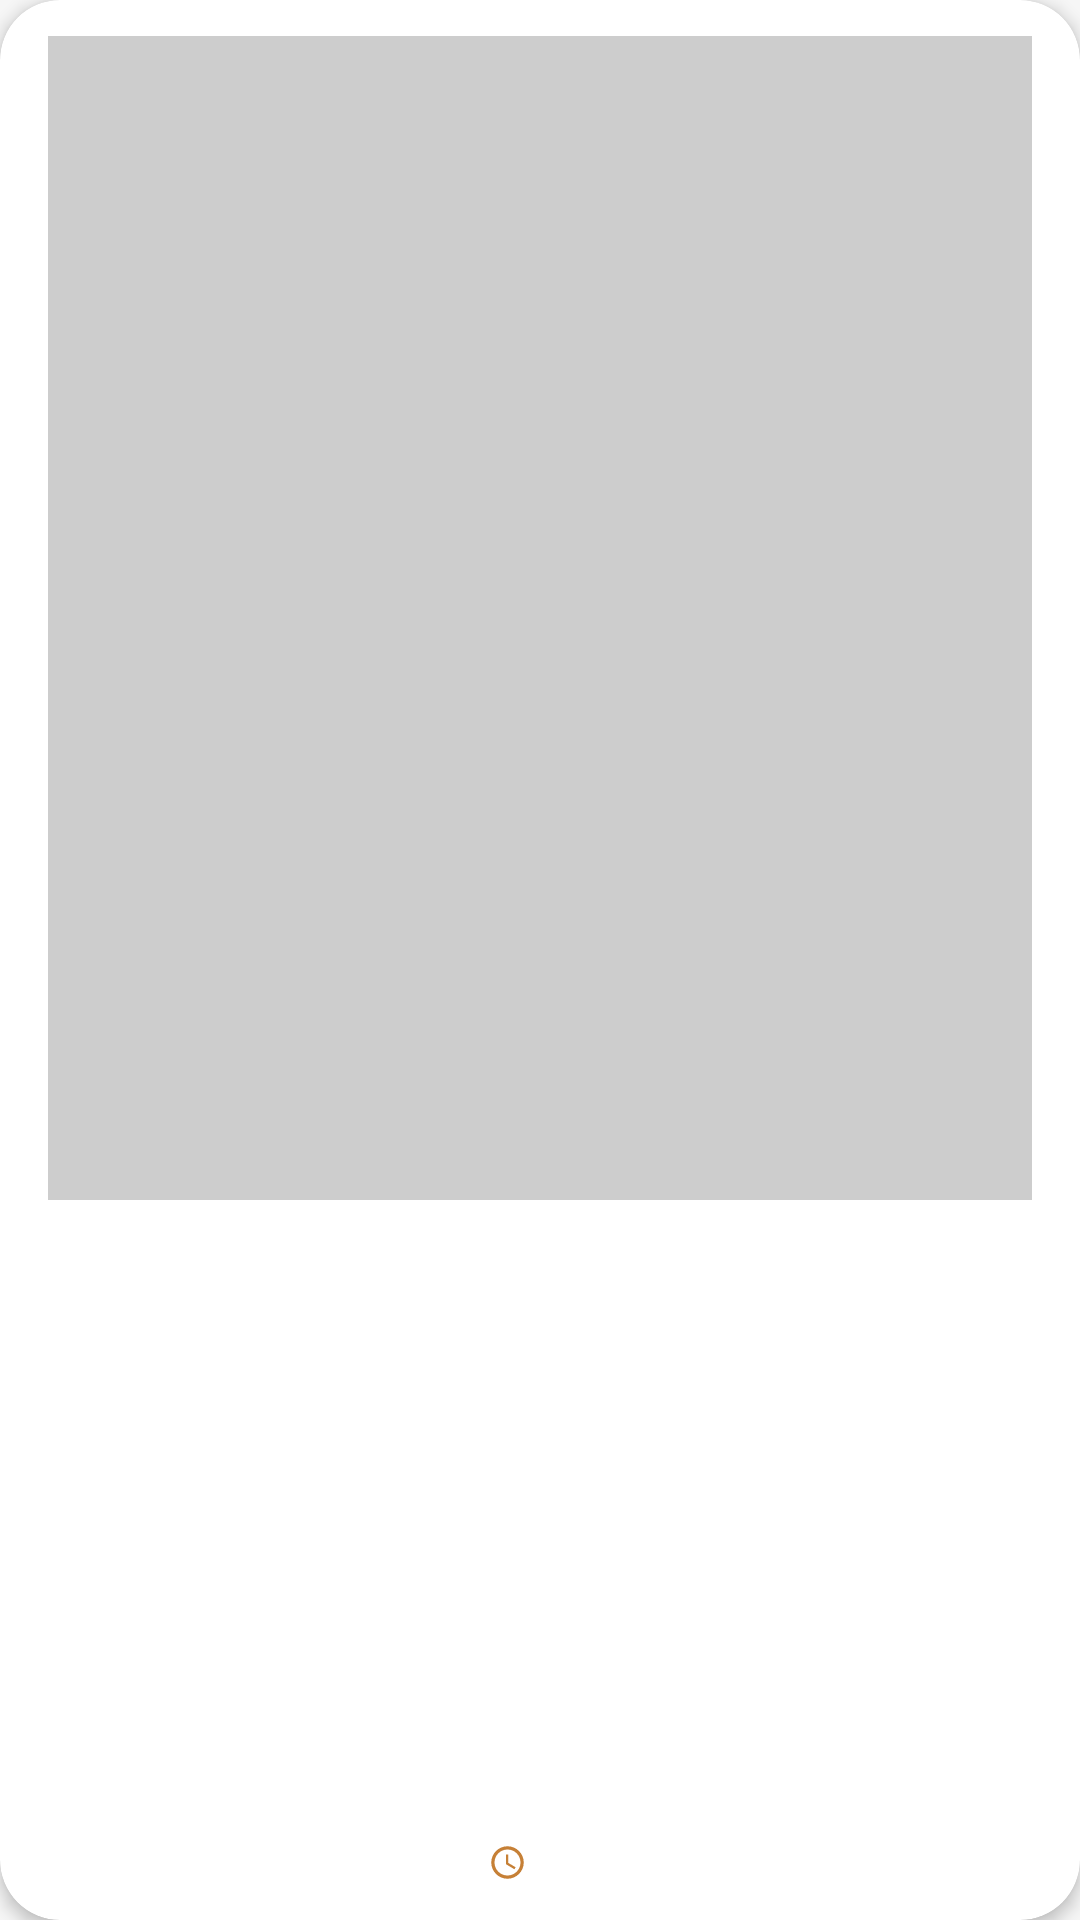

Point at icon controls on the screen. Image size 1080×1920, points as (x=x, y=y).
clock: (x=507, y=1862)
